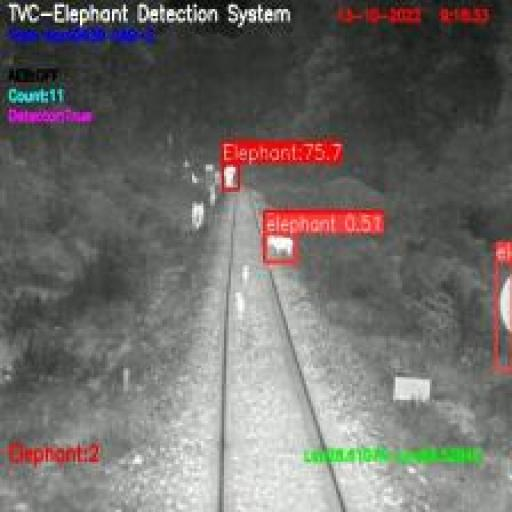Elephant: (496, 261, 512, 370), (265, 233, 296, 263)
